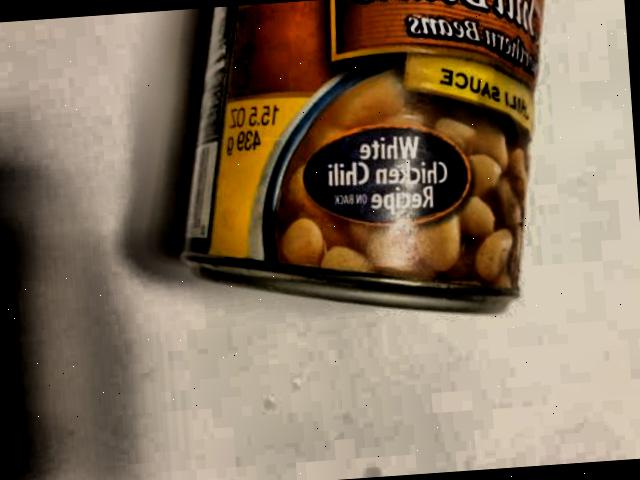Almennt: (154, 0, 590, 350)
